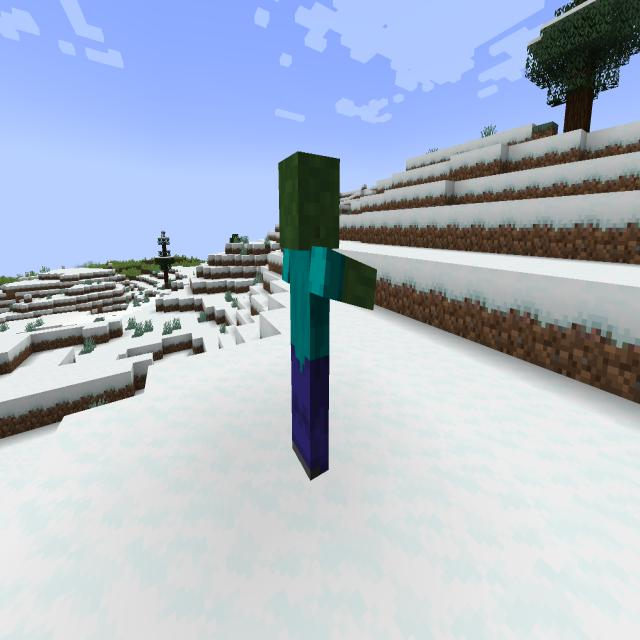Zombie: (267, 139, 385, 497)
